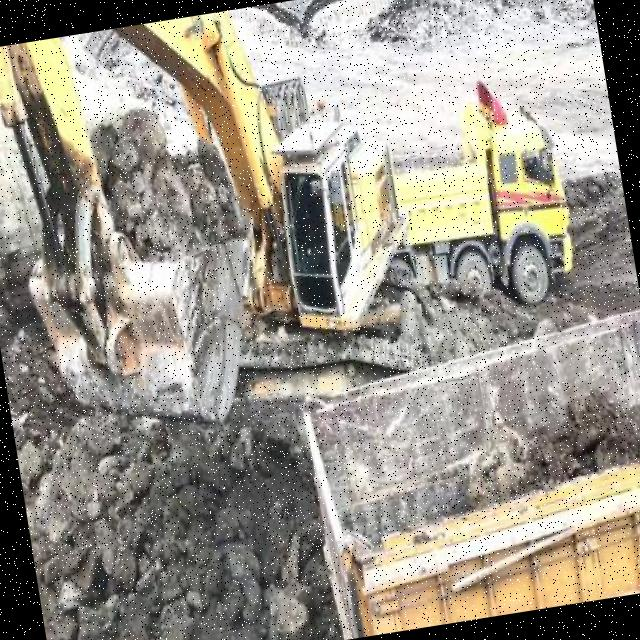Dump Truck: (289, 314, 640, 640), (381, 70, 585, 323)
Excavator: (0, 0, 434, 436)
